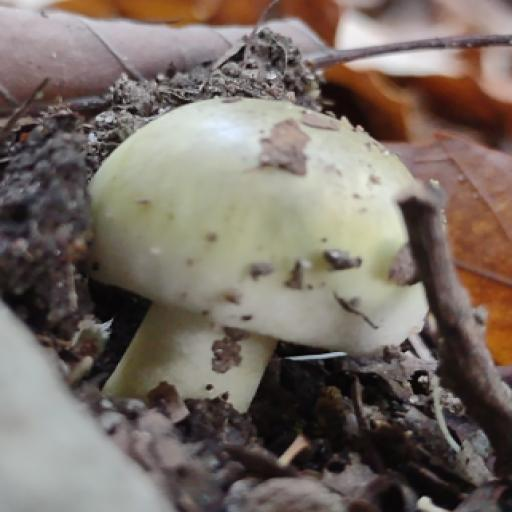mushroom: (76, 80, 437, 421)
